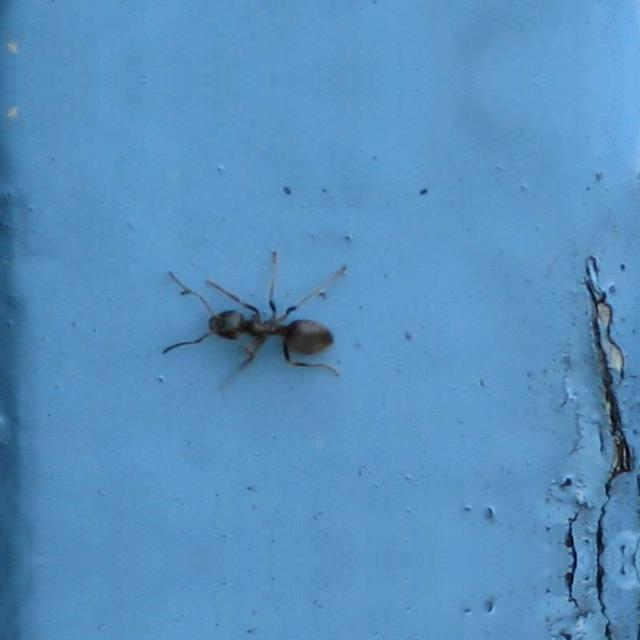Lasius: (166, 268, 340, 382)
